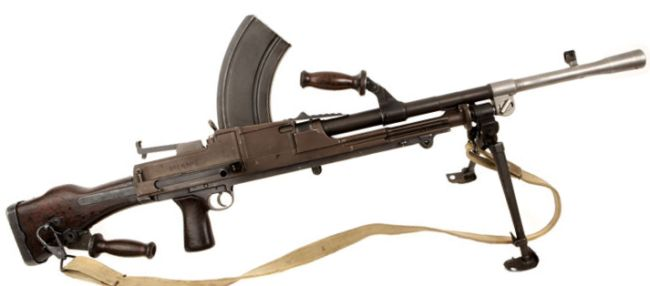rifle: (6, 39, 643, 274)
